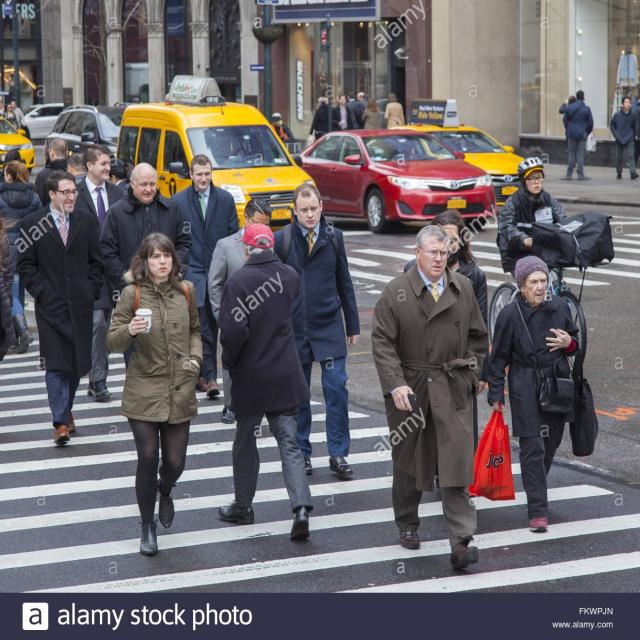body: (369, 222, 492, 574), (466, 253, 602, 534), (104, 230, 207, 558), (214, 219, 316, 544), (272, 182, 364, 478), (13, 168, 108, 448), (403, 208, 490, 492), (96, 161, 195, 374), (164, 152, 242, 400), (206, 196, 274, 424), (74, 142, 125, 402), (0, 159, 46, 356), (495, 156, 568, 280), (560, 90, 595, 182), (608, 94, 639, 180), (33, 138, 70, 208), (0, 210, 18, 351), (369, 137, 432, 160), (266, 111, 295, 159), (0, 148, 33, 187), (614, 40, 638, 93), (236, 132, 274, 164), (558, 94, 578, 152), (106, 158, 136, 188), (309, 96, 329, 140), (330, 93, 353, 131), (64, 151, 88, 186), (345, 92, 366, 132), (384, 92, 405, 130), (361, 96, 382, 130), (631, 94, 640, 167), (2, 102, 21, 134), (10, 99, 26, 134), (453, 136, 483, 153), (131, 83, 148, 103), (8, 72, 19, 99), (356, 92, 370, 110), (0, 100, 5, 126), (92, 98, 100, 106)
